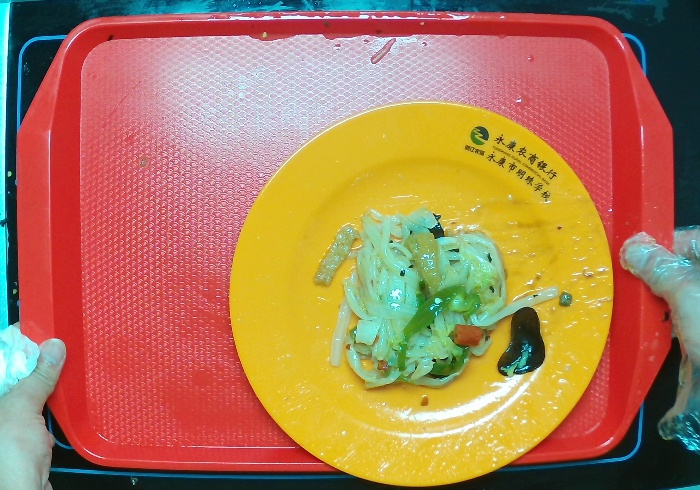YKMZ-Ju_Se_Mian_Pan: (225, 97, 616, 490)
